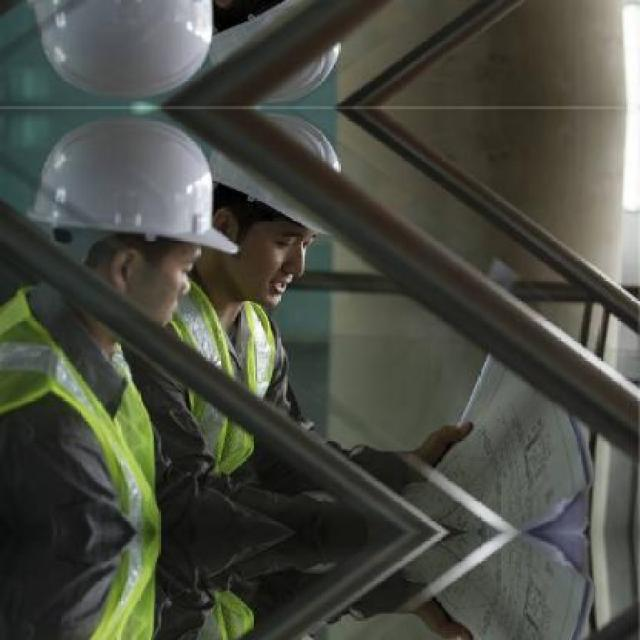Reflective-Jacket: (3, 271, 177, 640), (157, 279, 305, 486)
Safety-Helmet: (17, 110, 251, 268), (204, 102, 359, 244)
